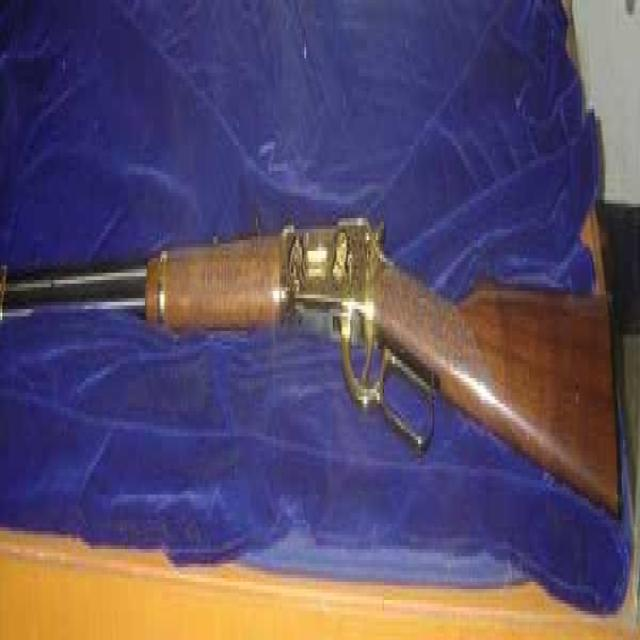heavyweapon: (2, 67, 620, 496)
